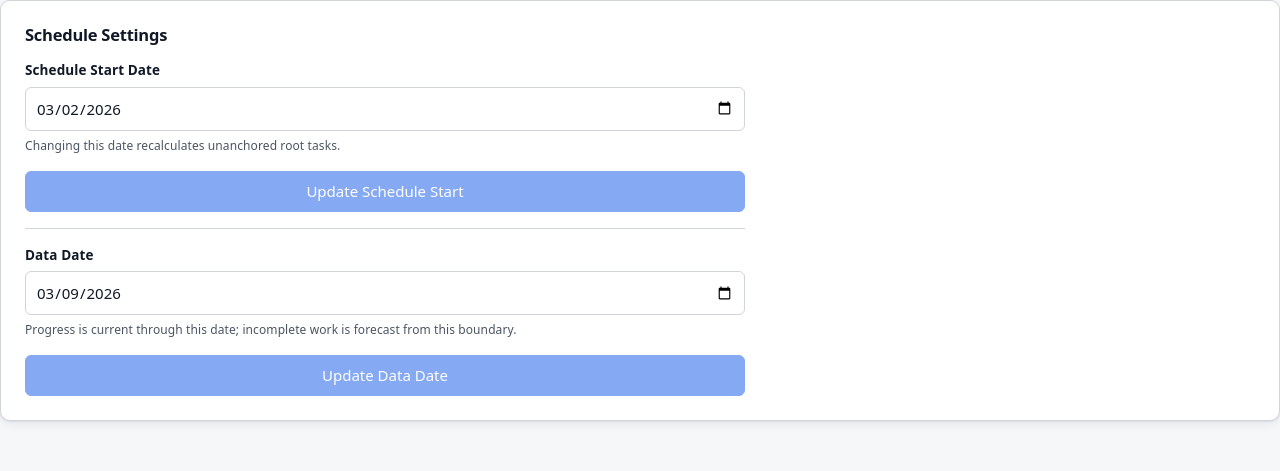
Test: ScheduleStartControl › validates the date before opening confirmation
This screenshot has width=1280, height=471.
Clear the date field labelled "Schedule Start Date" at (385, 109), box [25, 87, 745, 131]
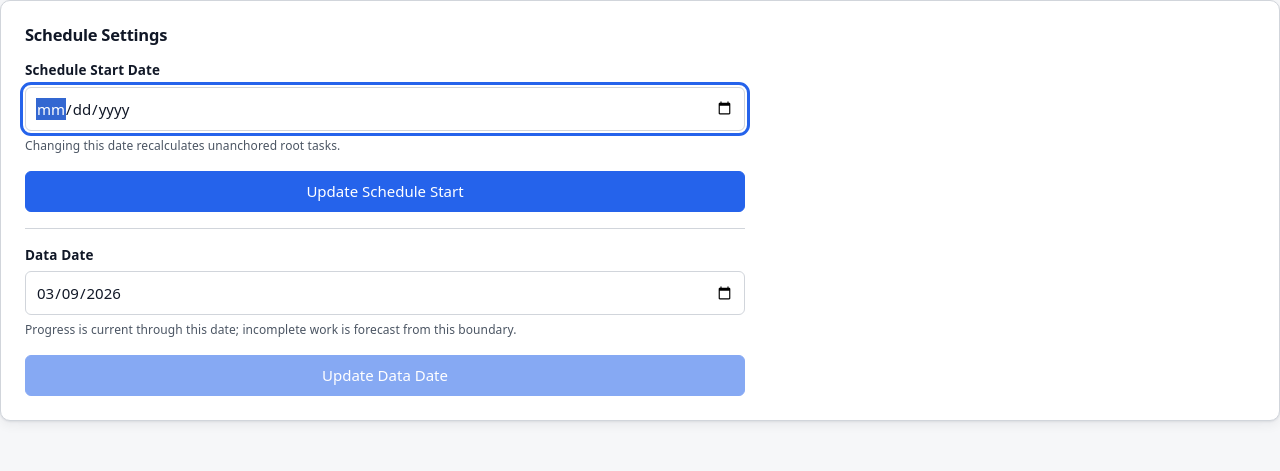
Click the button "Update Schedule Start" at (385, 191), box [25, 171, 745, 212]
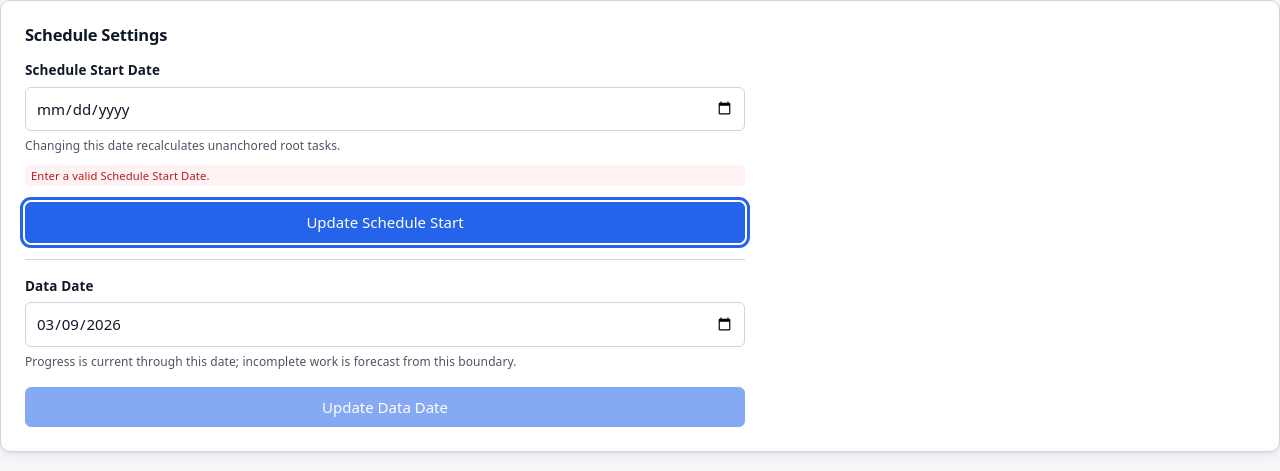
Check: the text "Enter a valid Schedule Start Date." is shown, box [25, 165, 745, 186]
